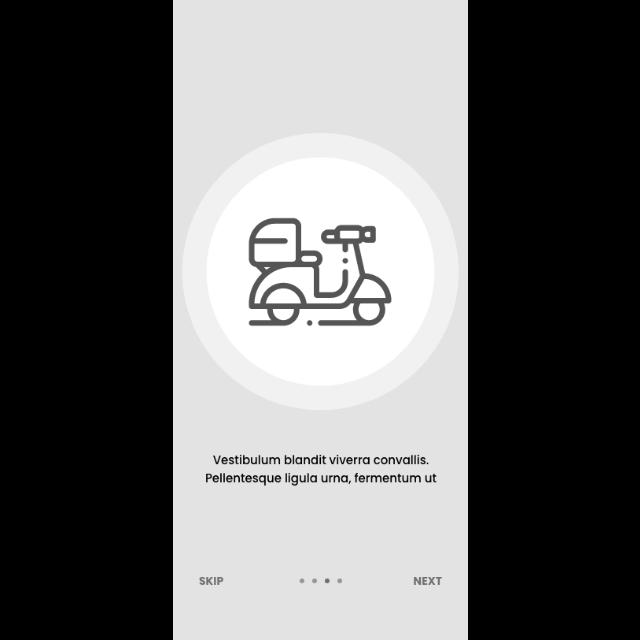image: (182, 133, 458, 411)
pageindicator: (298, 578, 342, 584)
text: (204, 453, 438, 487), (412, 576, 442, 586), (199, 576, 223, 586)
